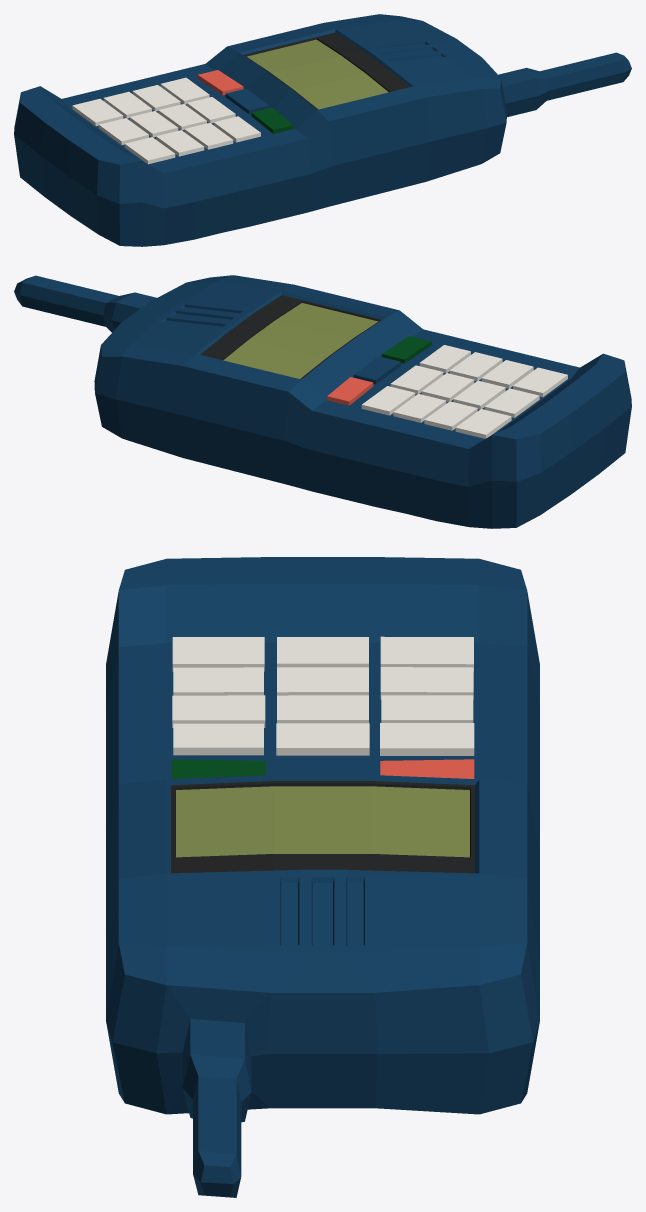
File: Cellphone.fbx
The picture shows the model from 3 angles, top to bottom: view 1: azimuth 30°, elevation 25°; view 2: azimuth 150°, elevation 25°; view 3: azimuth 270°, elevation 25°; orthographic projection. The views are drawn at different scales.
Visible parts, largest first — view 1: cell_phone; view 2: cell_phone; view 3: cell_phone.
Part boxes in pixels (<box>): cell_phone: <box>14,14,631,246</box>; cell_phone: <box>14,275,631,528</box>; cell_phone: <box>106,557,539,1197</box>.
Bounding box in the file's own units: 1.43 × 0.2282 × 0.4873.
